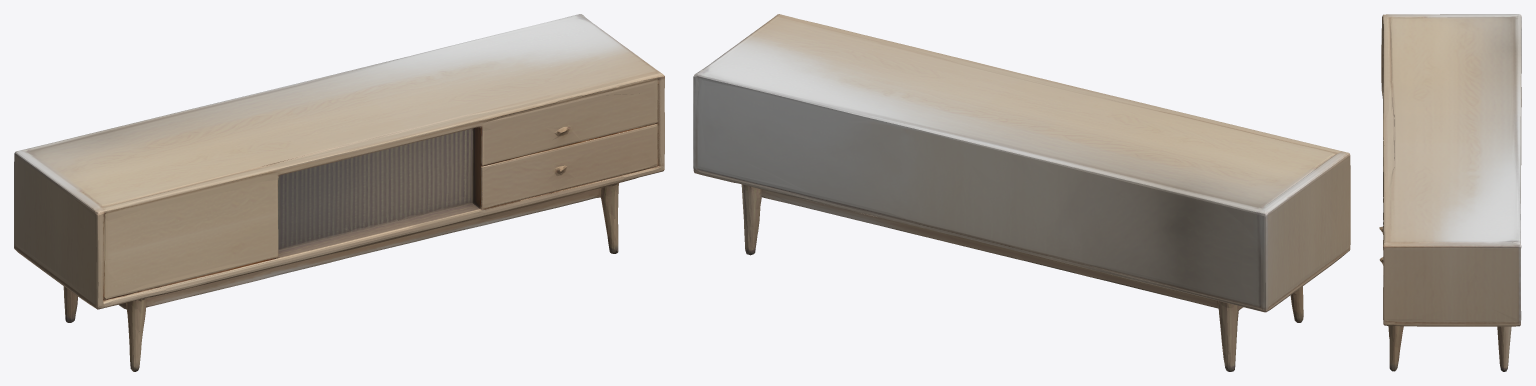
3 views of the same model, side by side, from view 1: azimuth 30°, elevation 25°; view 2: azimuth 150°, elevation 25°; view 3: azimuth 270°, elevation 25° (orthographic). The views are drawn at different scales.
Visible parts, largest first — view 1: world; view 2: world; view 3: world.
Boxes of the visible parts, x1,y1,x2,y2 form: world: (14, 14, 664, 371); world: (693, 14, 1350, 371); world: (1379, 14, 1521, 371).
Size of the model in its own units: 1 by 0.2962 by 0.2606.
Materials: 1 (1 with a texture image).
